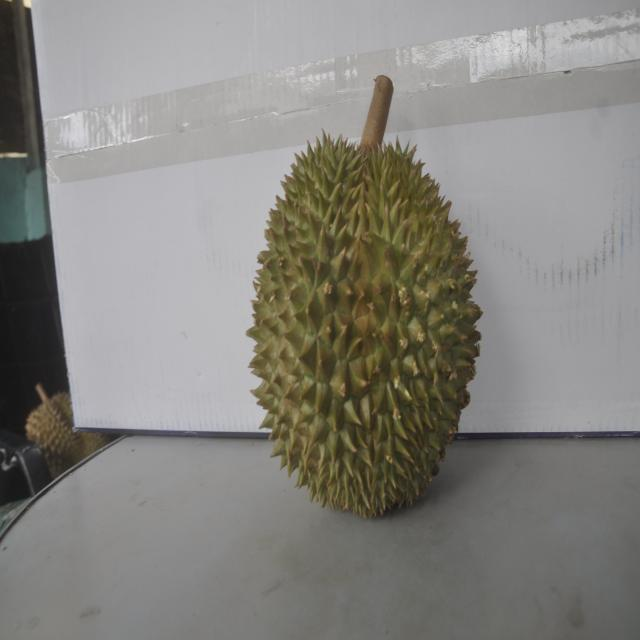mature: (249, 109, 476, 517)
